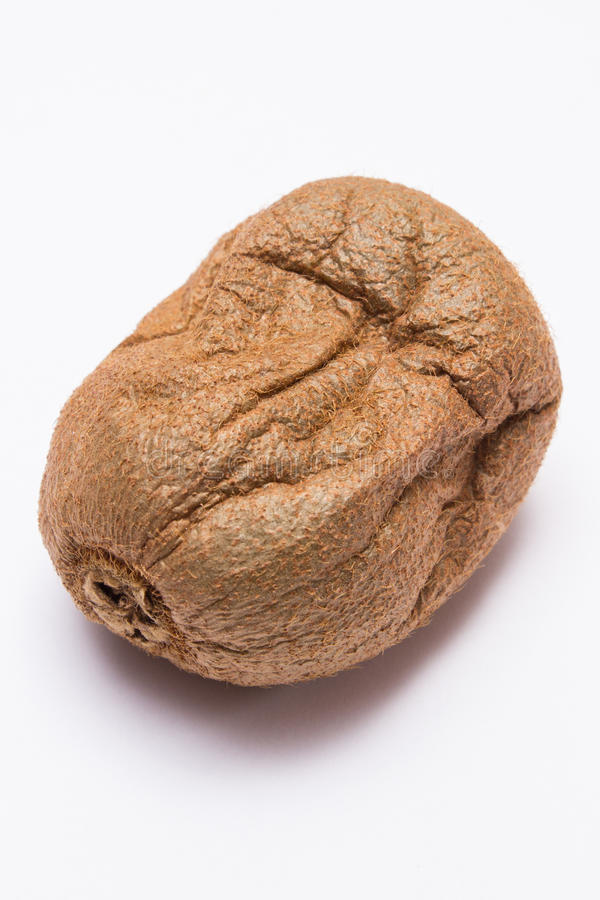damaged_kiwi: (30, 168, 555, 684)
